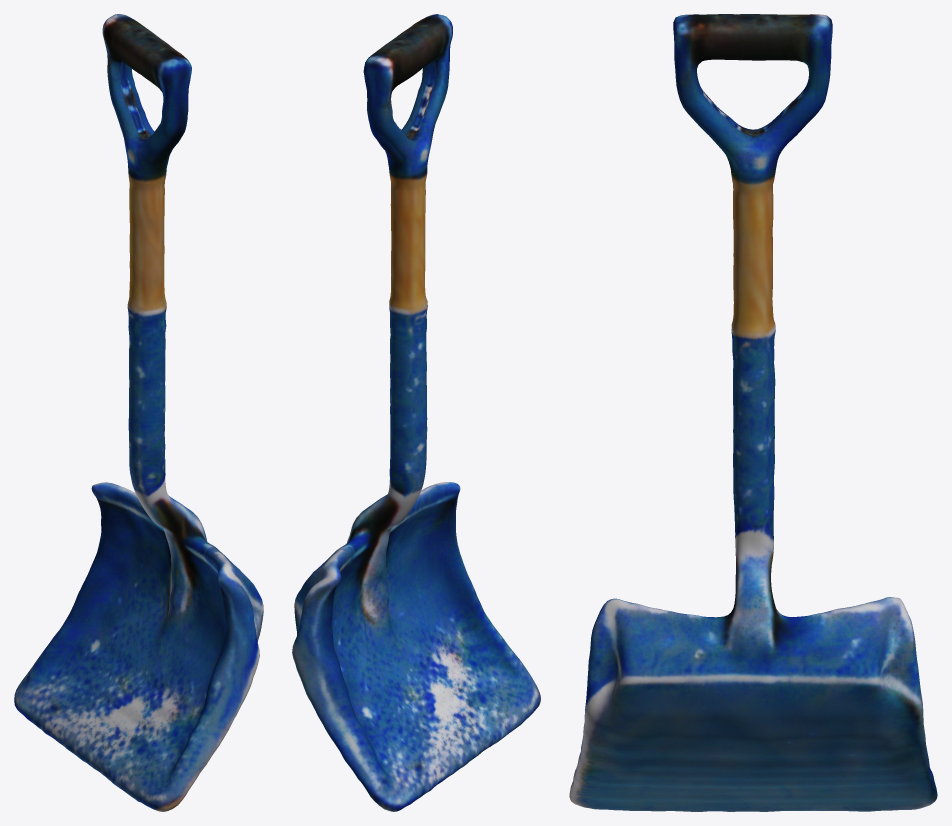
Rendered from Snow Shovel.fbx.
3 renders of one model, left to right at view 1: azimuth 30°, elevation 25°; view 2: azimuth 150°, elevation 25°; view 3: azimuth 270°, elevation 25°, orthographic. The views are drawn at different scales.
Parts seen in each view (by area): view 1: mesh; view 2: mesh; view 3: mesh.
Boxes of the visible parts, x1,y1,x2,y2 form: mesh: [14, 14, 263, 811]; mesh: [292, 14, 540, 811]; mesh: [569, 14, 937, 811].
Bounding box in the file's own units: 18.58 × 99.94 × 40.29.
